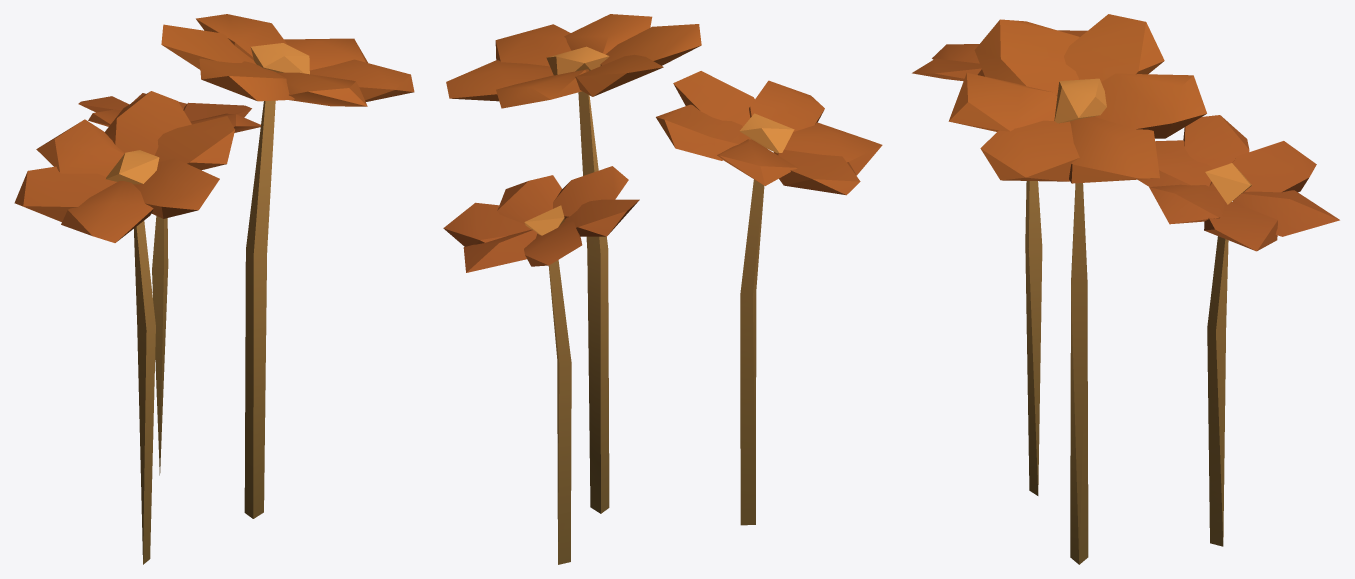
The model's file is Autumn_Flower_07.glb.
3 views of the same model, side by side, from view 1: azimuth 30°, elevation 25°; view 2: azimuth 150°, elevation 25°; view 3: azimuth 270°, elevation 25° (orthographic). The views are drawn at different scales.
Parts seen in each view (by area): view 1: Autumn_Flower_07_LOD0; view 2: Autumn_Flower_07_LOD0; view 3: Autumn_Flower_07_LOD0.
Boxes of the visible parts, x1,y1,x2,y2 form: Autumn_Flower_07_LOD0: [14, 14, 414, 564]; Autumn_Flower_07_LOD0: [443, 14, 882, 564]; Autumn_Flower_07_LOD0: [912, 14, 1339, 564].
Size of what is drawn, in the model's own units: 0.2384 by 0.2893 by 0.2215.
Materials: 1 (1 with a texture image).
